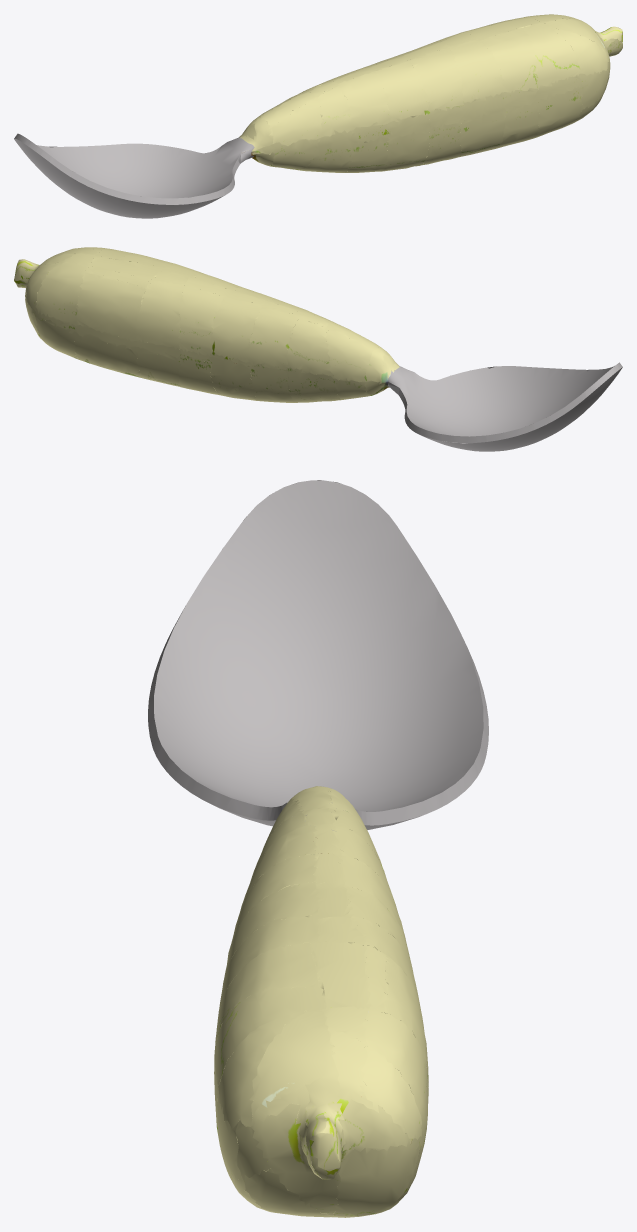
3 views of the same model, one above another, from view 1: azimuth 30°, elevation 25°; view 2: azimuth 150°, elevation 25°; view 3: azimuth 270°, elevation 25° (orthographic). The views are drawn at different scales.
Visible parts, largest first — view 1: Model.001; view 2: Model.001; view 3: Model.001.
Part boxes in pixels (left/top/right/bottom): Model.001: left=14, top=14, right=622, bottom=218; Model.001: left=14, top=247, right=622, bottom=451; Model.001: left=148, top=480, right=488, bottom=1217.
Bounding box in the file's own units: 0.14 × 0.0346 × 0.026.
2 materials, 1 textured.
